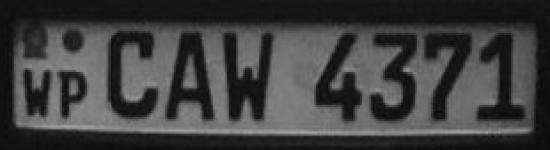1: (478, 30, 531, 126)
3: (367, 29, 425, 125)
4: (300, 26, 366, 128)
7: (424, 27, 478, 126)
A: (164, 26, 216, 130)
C: (96, 25, 161, 128)
P: (56, 60, 90, 120)
W: (218, 19, 282, 132), (16, 63, 56, 121)
